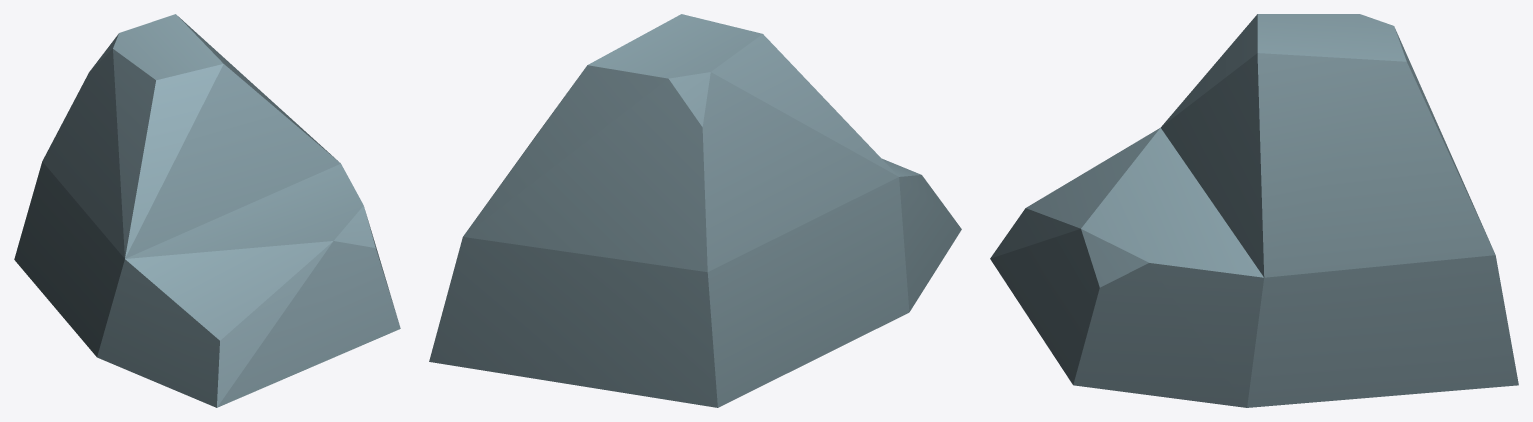
Rendered from Rock08.fbx.
3 renders of one model, left to right at view 1: azimuth 30°, elevation 25°; view 2: azimuth 150°, elevation 25°; view 3: azimuth 270°, elevation 25°, orthographic. The views are drawn at different scales.
Visible parts, largest first — view 1: Rock08_LOD0; view 2: Rock08_LOD0; view 3: Rock08_LOD0.
Part boxes in pixels (bbox=[...]): Rock08_LOD0: bbox=[14, 14, 400, 407]; Rock08_LOD0: bbox=[429, 14, 961, 407]; Rock08_LOD0: bbox=[990, 14, 1518, 407].
Bounding box in the file's own units: 131 × 97.72 × 170.
